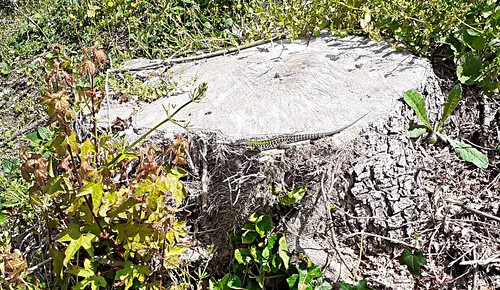tree trunk: (83, 22, 448, 194)
vegetation: (1, 1, 500, 290)
